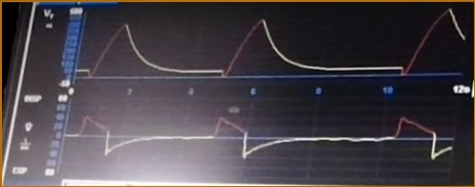Flow: (68, 113, 453, 173)
Leakage Volume: (81, 6, 466, 82)
